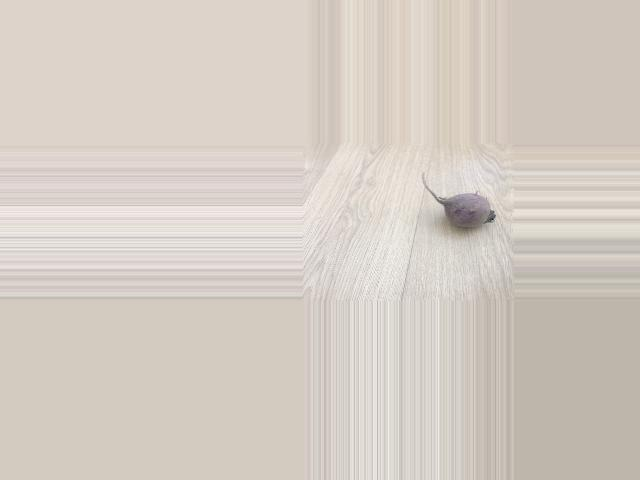beet: (419, 172, 494, 227)
